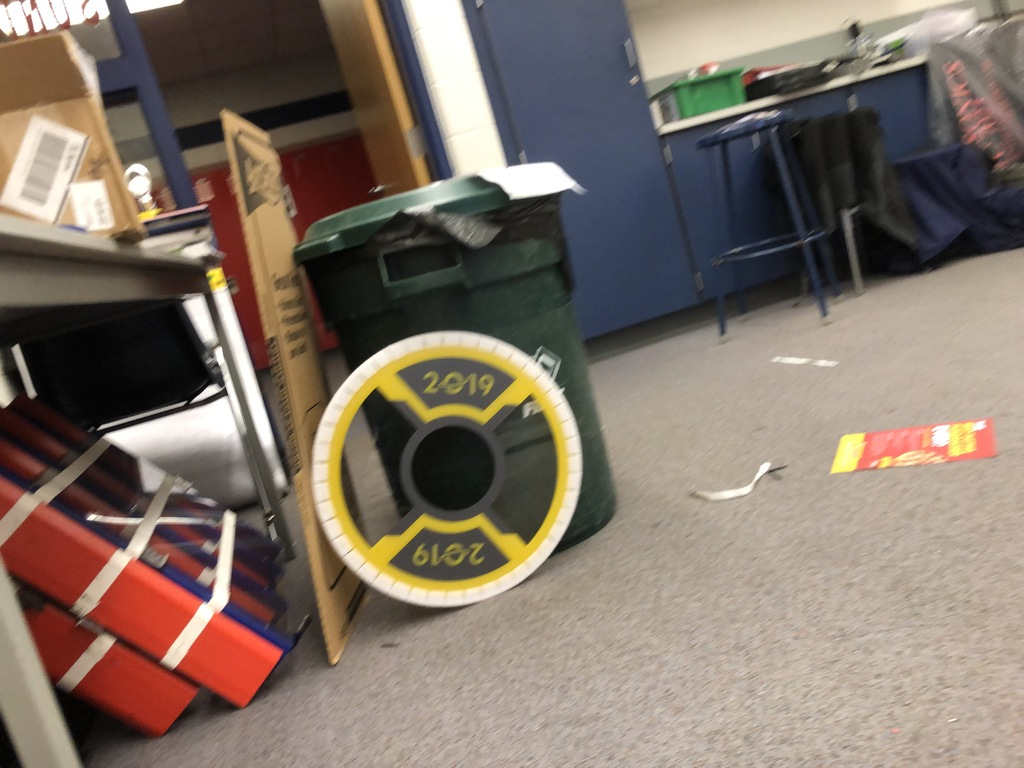hatch_panel: (291, 322, 599, 624)
